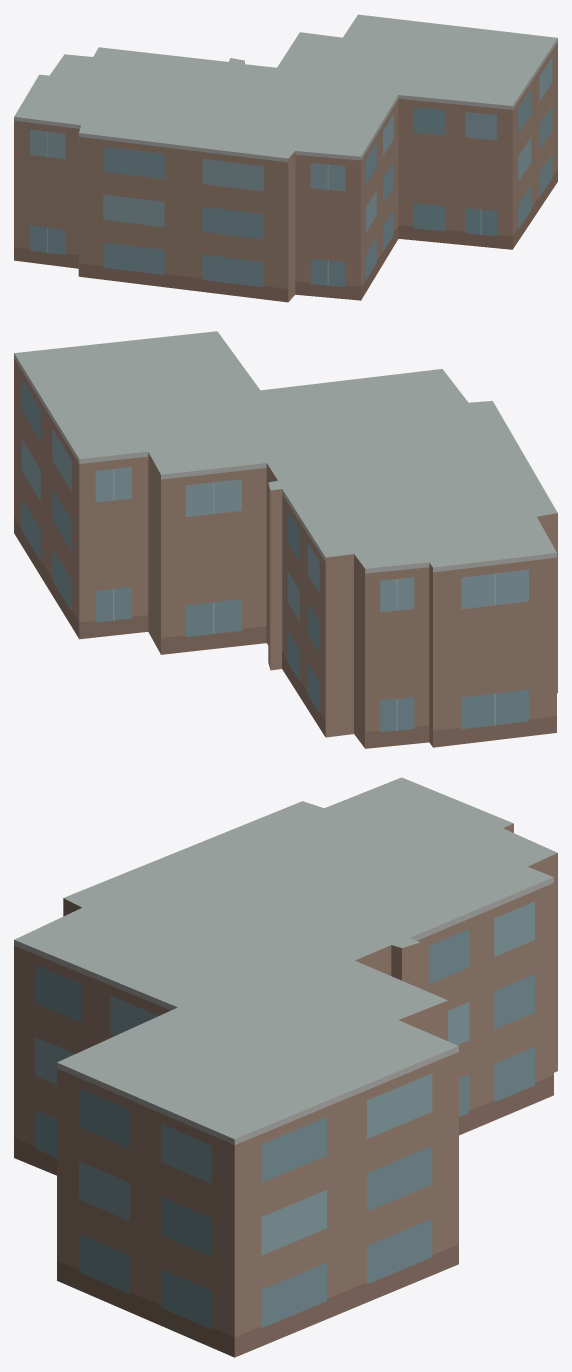
The model's file is survey-upis-32645692.glb.
3 views of the same model, one above another, from view 1: azimuth 30°, elevation 25°; view 2: azimuth 150°, elevation 25°; view 3: azimuth 270°, elevation 25° (orthographic). The views are drawn at different scales.
Parts seen in each view (by area): view 1: survey-upis-32645692.tmp; view 2: survey-upis-32645692.tmp; view 3: survey-upis-32645692.tmp.
Part boxes in pixels (left/top/right/bottom): survey-upis-32645692.tmp: left=14, top=14, right=557, bottom=302; survey-upis-32645692.tmp: left=14, top=331, right=557, bottom=748; survey-upis-32645692.tmp: left=14, top=777, right=557, bottom=1357.
Bounding box in the file's own units: 32.56 × 9.15 × 20.67.
